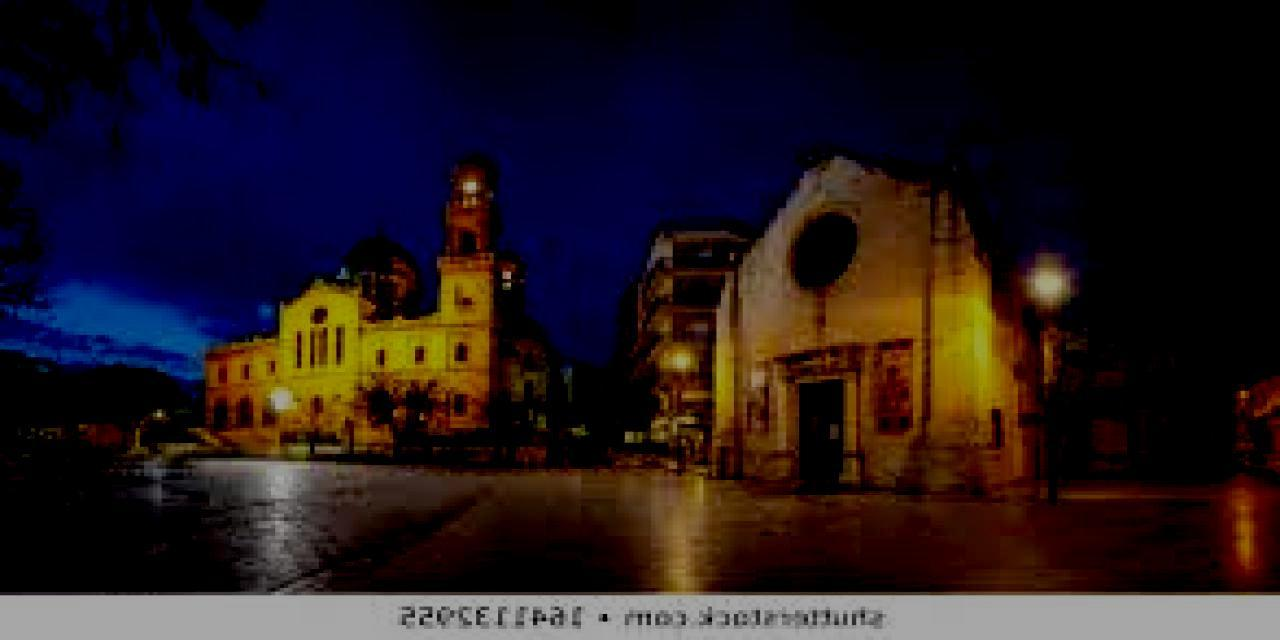Agios Minas: (196, 139, 557, 452)
